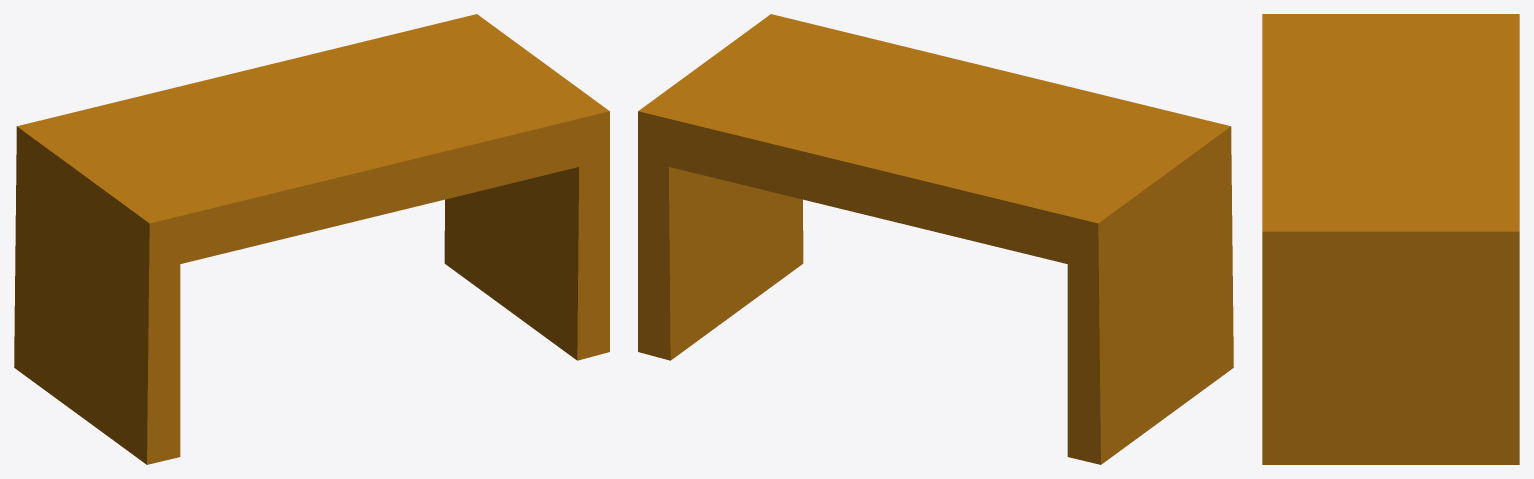
The model's file is DeskTable.obj.
3 renders of one model, left to right at view 1: azimuth 30°, elevation 25°; view 2: azimuth 150°, elevation 25°; view 3: azimuth 270°, elevation 25°, orthographic. The views are drawn at different scales.
Visible parts, largest first — view 1: DeskTable; view 2: DeskTable; view 3: DeskTable.
Boxes of the visible parts, x1,y1,x2,y2 form: DeskTable: (14,14,609,464); DeskTable: (638,14,1233,464); DeskTable: (1262,14,1519,464).
Size of the model in its own units: 4.02 by 2.01 by 2.
